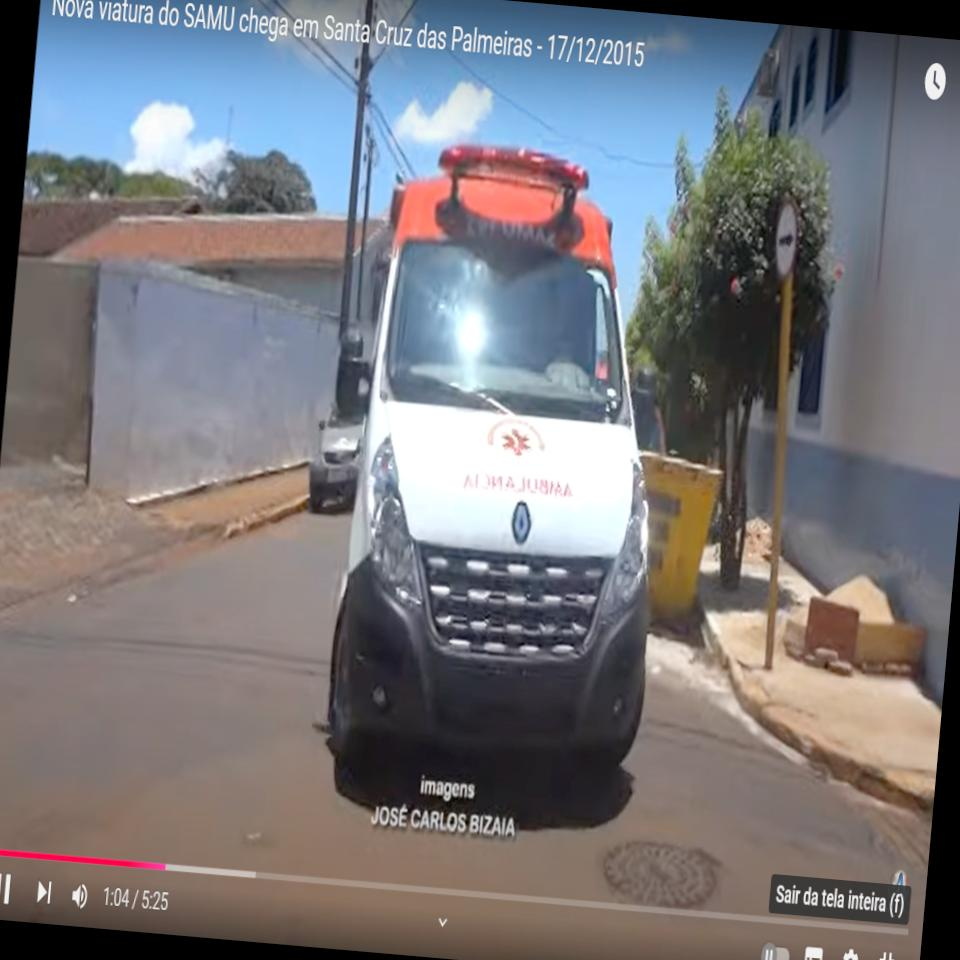bombeiro: (301, 124, 696, 790)
